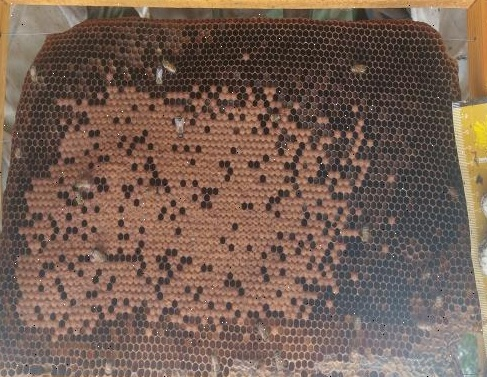cria: (12, 68, 373, 340)
